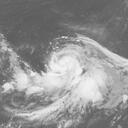cyclone: (45, 44, 87, 87)
